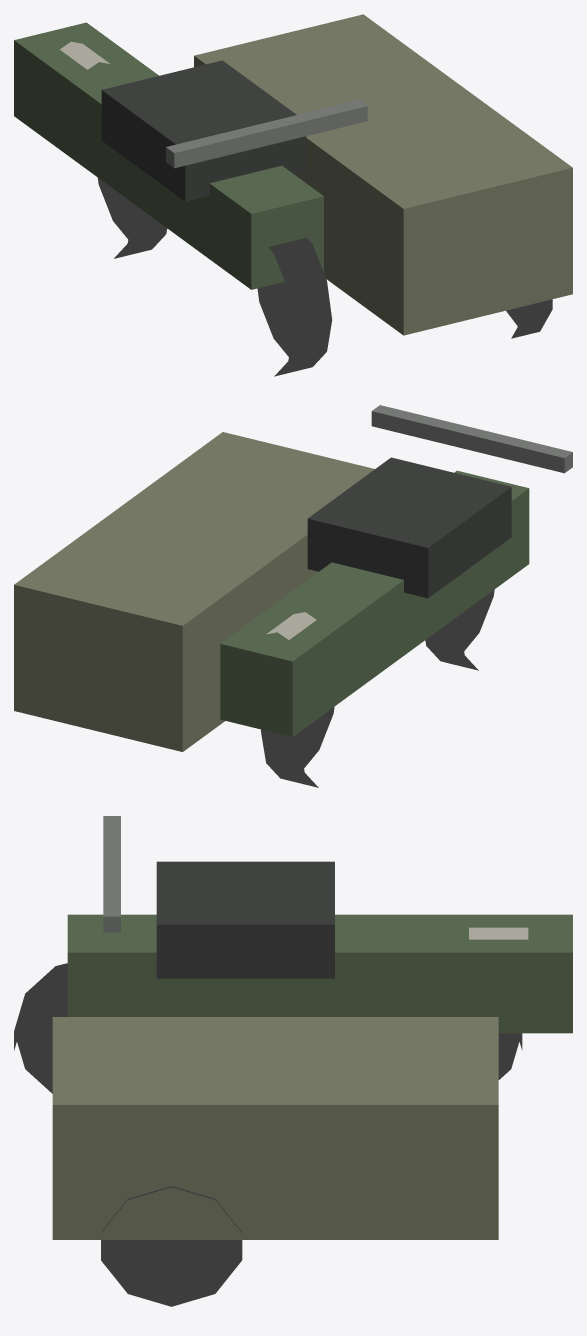
File: v_moto.glb
The picture shows the model from 3 angles, top to bottom: view 1: azimuth 30°, elevation 25°; view 2: azimuth 150°, elevation 25°; view 3: azimuth 270°, elevation 25°; orthographic projection. The views are drawn at different scales.
Parts seen in each view (by area): view 1: body; view 2: body; view 3: body.
Boxes of the visible parts, x1,y1,x2,y2 form: body: [14, 14, 572, 376]; body: [14, 405, 572, 787]; body: [14, 816, 572, 1306].
Bounding box in the file's own units: 1.56 × 1.15 × 1.88.
